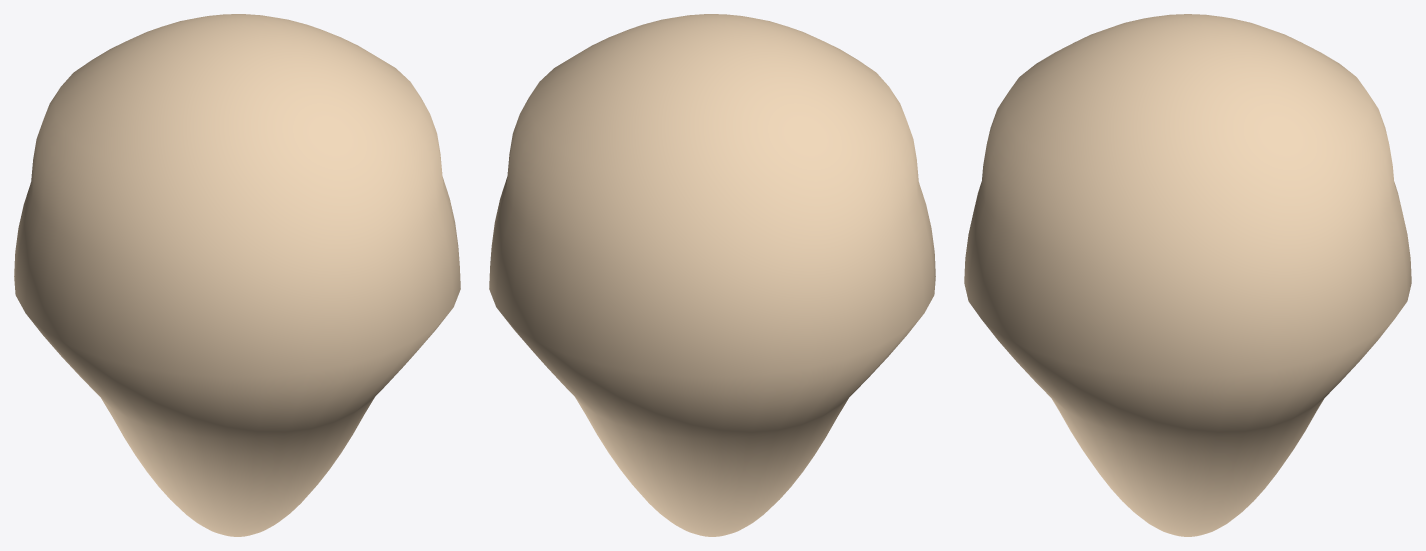
The model's file is heart.glb.
The picture shows the model from 3 angles, left to right: view 1: azimuth 30°, elevation 25°; view 2: azimuth 150°, elevation 25°; view 3: azimuth 270°, elevation 25°; orthographic projection.
Parts seen in each view (by area): view 1: Head_heart; view 2: Head_heart; view 3: Head_heart.
Boxes of the visible parts, bbox=[...] form: Head_heart: bbox=[14, 14, 460, 536]; Head_heart: bbox=[489, 14, 935, 536]; Head_heart: bbox=[964, 14, 1411, 536].
Bounding box in the file's own units: 1.71 × 2.1 × 1.71.
